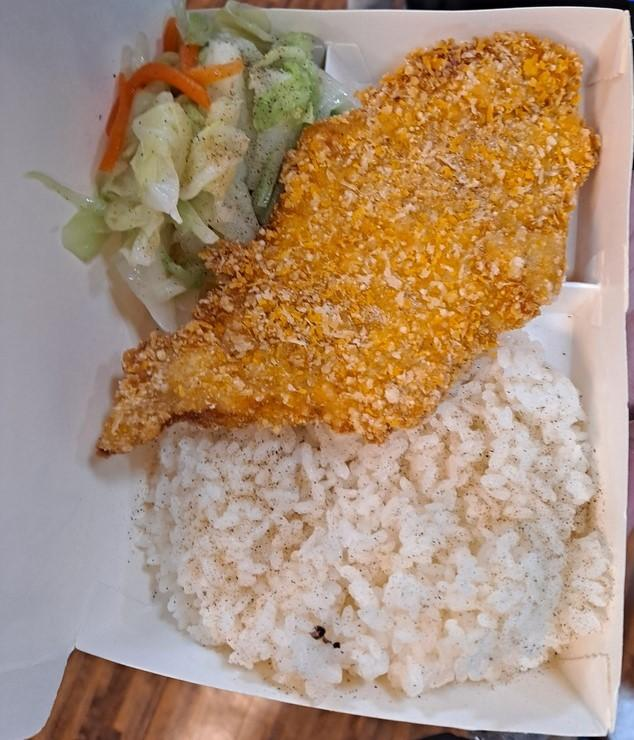big grilled chicken leg: (49, 0, 631, 740)
big herbal chicken leg: (129, 317, 609, 702)
braised fish fillet: (81, 14, 319, 337)
braised pork: (90, 27, 589, 470)
